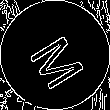M_NE: (21, 22, 89, 88)
